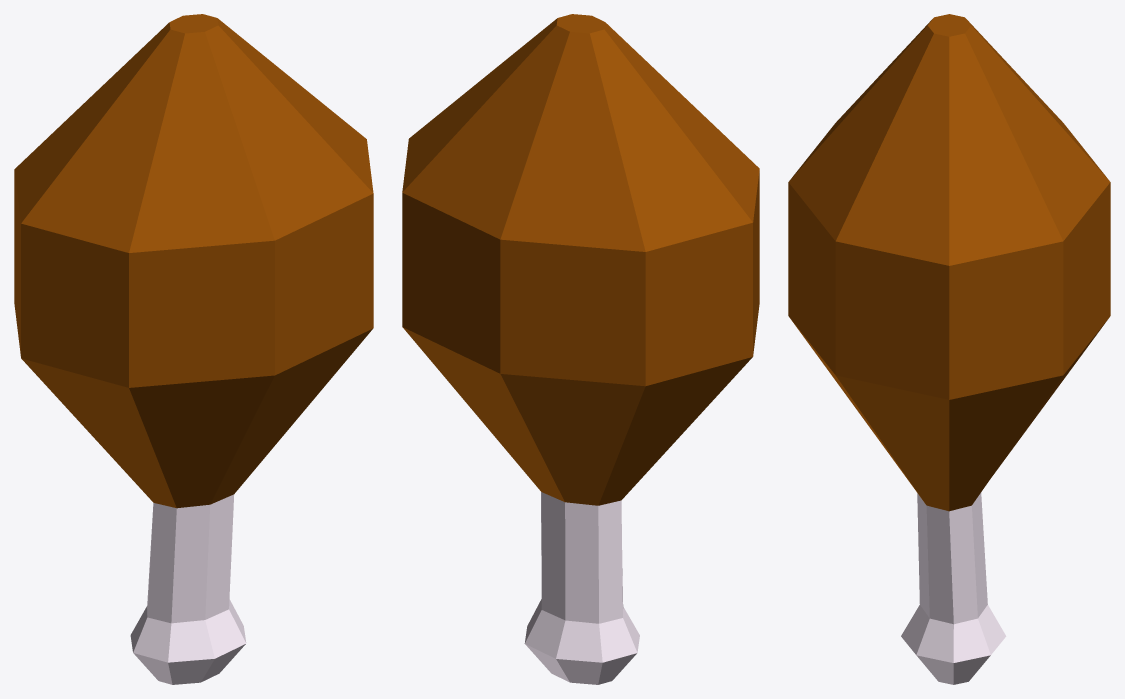
Rendered from ayam.glb.
3 renders of one model, left to right at view 1: azimuth 30°, elevation 25°; view 2: azimuth 150°, elevation 25°; view 3: azimuth 270°, elevation 25°, orthographic.
Parts seen in each view (by area): view 1: Ayam; view 2: Ayam; view 3: Ayam.
Part boxes in pixels (bbox=[...]): Ayam: bbox=[14, 14, 373, 684]; Ayam: bbox=[402, 14, 759, 684]; Ayam: bbox=[788, 14, 1110, 684].
Bounding box in the file's own units: 2.61 × 4.69 × 2.12.
